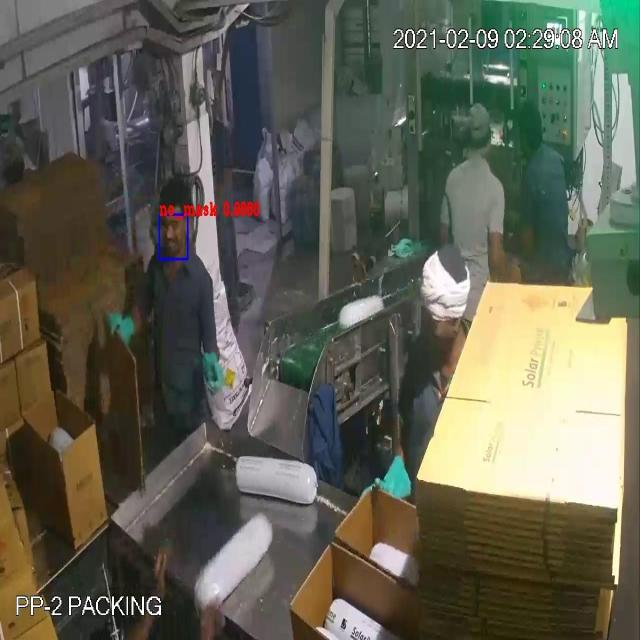gloves: (358, 449, 410, 517), (186, 349, 228, 398), (98, 309, 142, 352)
no-gloves: (481, 227, 529, 295)
